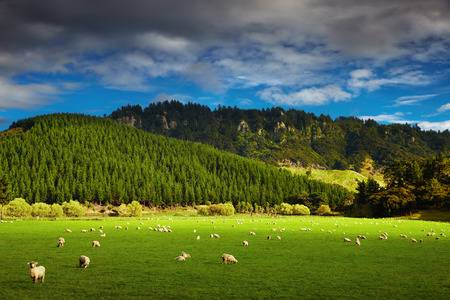sheep: (24, 260, 47, 286), (219, 252, 240, 266), (75, 252, 91, 269), (54, 235, 66, 247), (90, 238, 102, 249), (174, 253, 186, 264), (180, 248, 192, 259), (62, 225, 74, 234), (353, 236, 362, 247), (240, 238, 250, 247), (341, 236, 352, 244), (377, 234, 388, 242), (274, 234, 283, 242), (409, 237, 419, 244), (213, 232, 221, 240), (195, 233, 203, 241), (80, 227, 89, 234), (265, 233, 272, 241)
